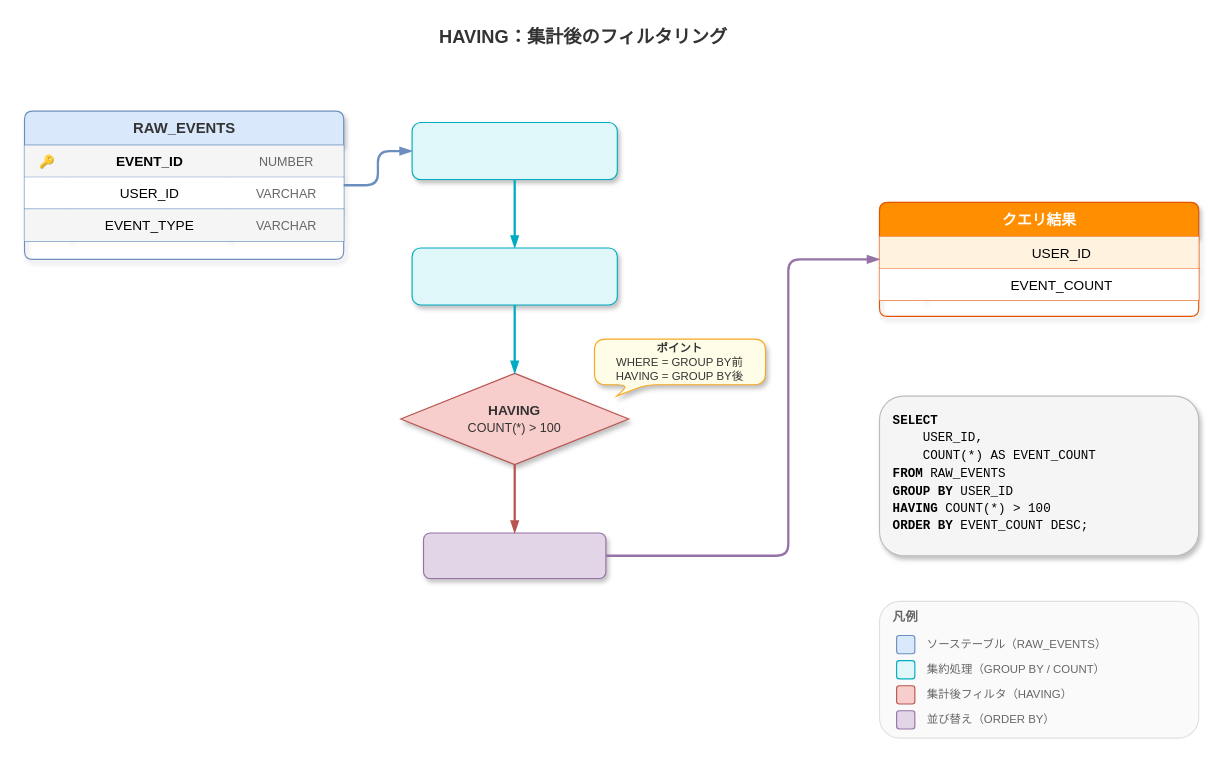
This 1226x758 diagram has some shape labels left out. Each missing label, with the centre of its shape:
COUNT(*) AS EVENT_COUNT: point (515, 277)
GROUP BY USER_ID: point (515, 152)
ORDER BY EVENT_COUNT DESC: point (515, 557)
